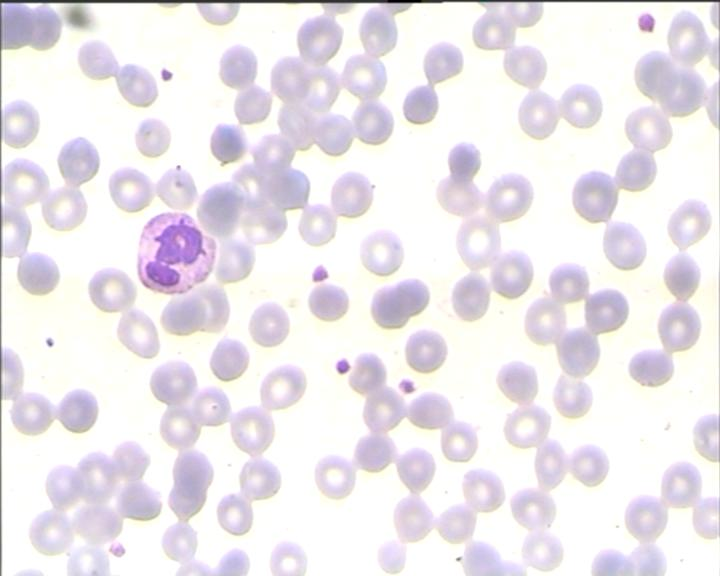neut: (129, 211, 220, 295)
